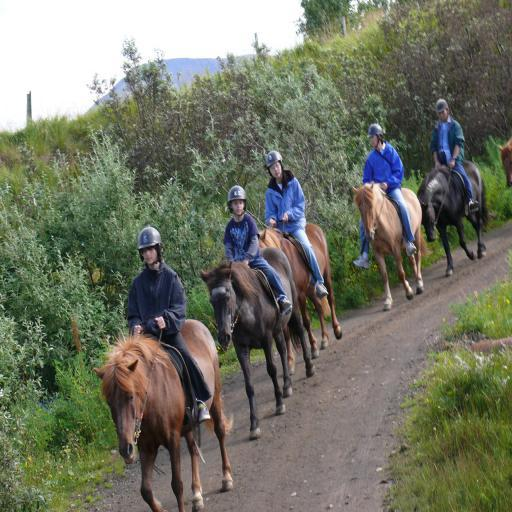Horse: (94, 317, 234, 512), (198, 246, 315, 438), (258, 221, 342, 375), (352, 179, 430, 312), (414, 158, 490, 276), (494, 137, 512, 190)
